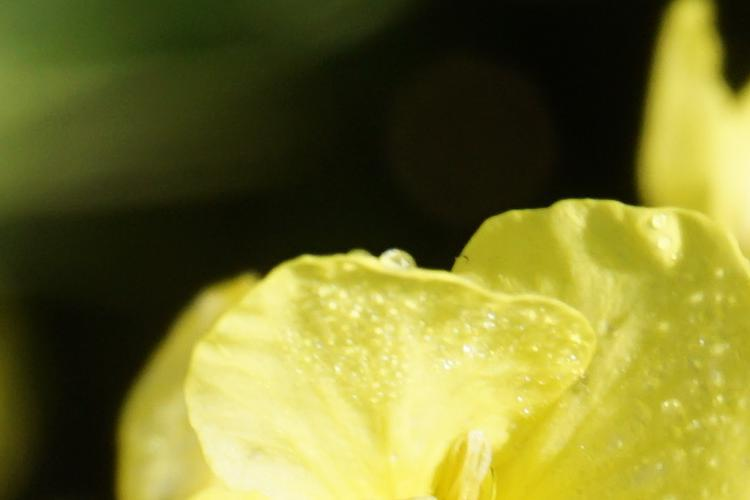yellow: (162, 213, 746, 487)
